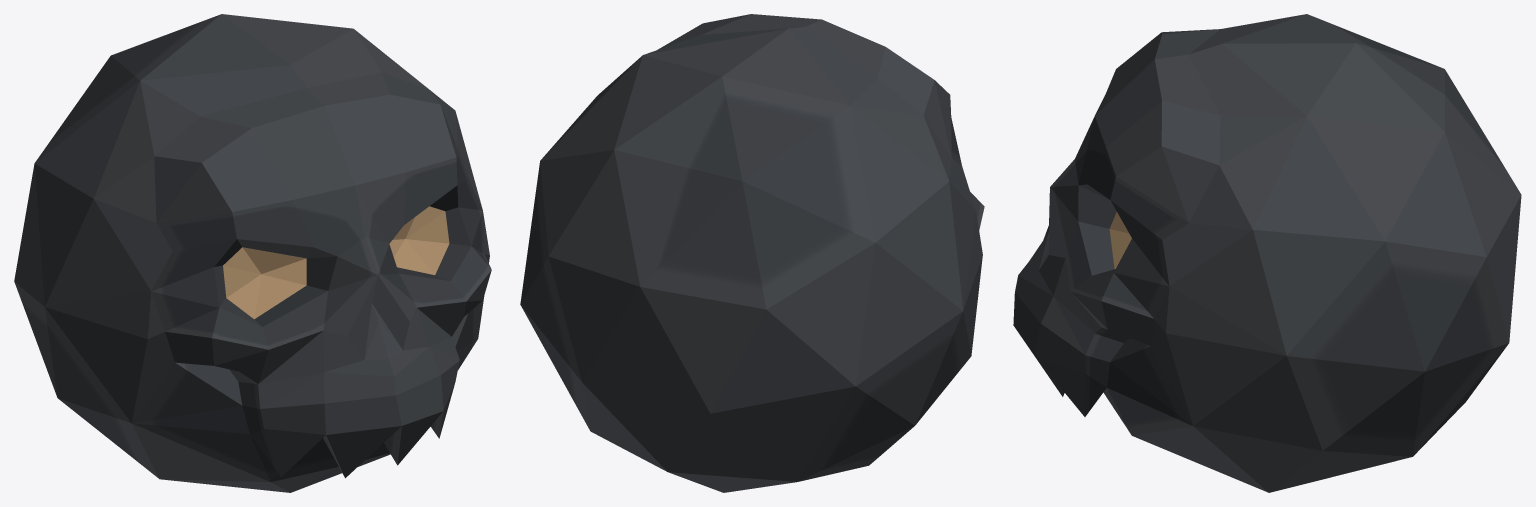
The model's file is SM_Prop_Cannonball_02.fbx.
The picture shows the model from 3 angles, left to right: view 1: azimuth 30°, elevation 25°; view 2: azimuth 150°, elevation 25°; view 3: azimuth 270°, elevation 25°; orthographic projection. The views are drawn at different scales.
Parts seen in each view (by area): view 1: SM_Prop_Cannonball_02; view 2: SM_Prop_Cannonball_02; view 3: SM_Prop_Cannonball_02.
Boxes of the visible parts, x1=… form: SM_Prop_Cannonball_02: x1=14, y1=14, x2=491, y2=492; SM_Prop_Cannonball_02: x1=520, y1=14, x2=984, y2=492; SM_Prop_Cannonball_02: x1=1013, y1=14, x2=1521, y2=492.
Size of the model in its own units: 20.5 by 19.8 by 21.65.
